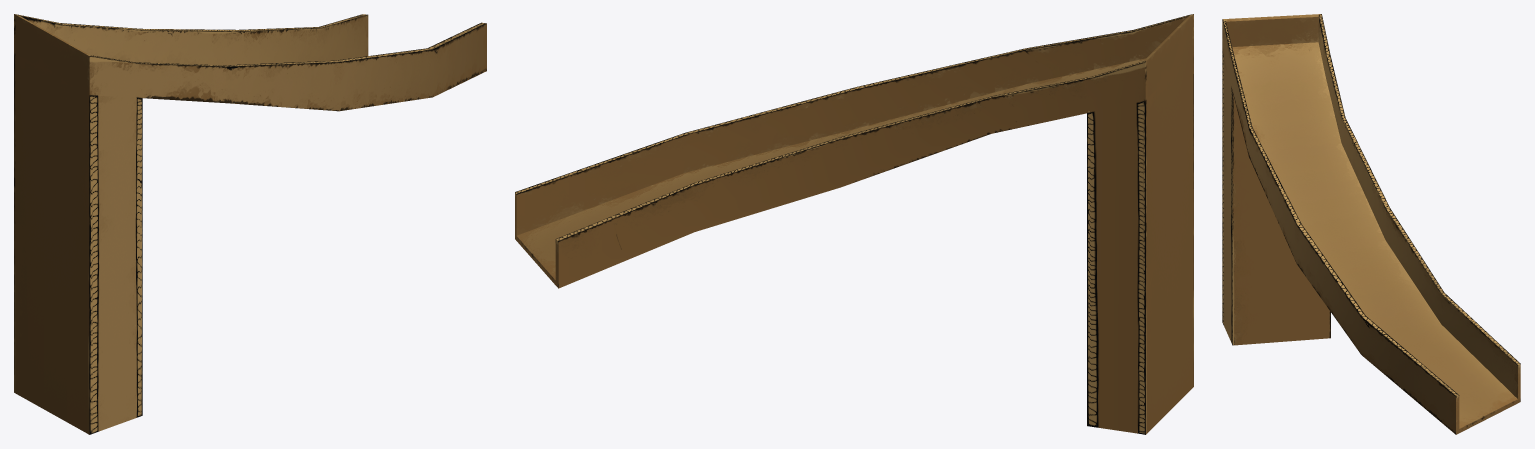
File: SM_Part11_Playtrack.fbx
The picture shows the model from 3 angles, left to right: view 1: azimuth 30°, elevation 25°; view 2: azimuth 150°, elevation 25°; view 3: azimuth 270°, elevation 25°; orthographic projection. The views are drawn at different scales.
Parts seen in each view (by area): view 1: Panel_11; view 2: Panel_11; view 3: Panel_11.
Part boxes in pixels (left/top/right/bottom): Panel_11: left=14, top=14, right=486, bottom=434; Panel_11: left=515, top=14, right=1193, bottom=434; Panel_11: left=1222, top=14, right=1520, bottom=434.
Size of the model in its own units: 13701 by 8908 by 7947.
